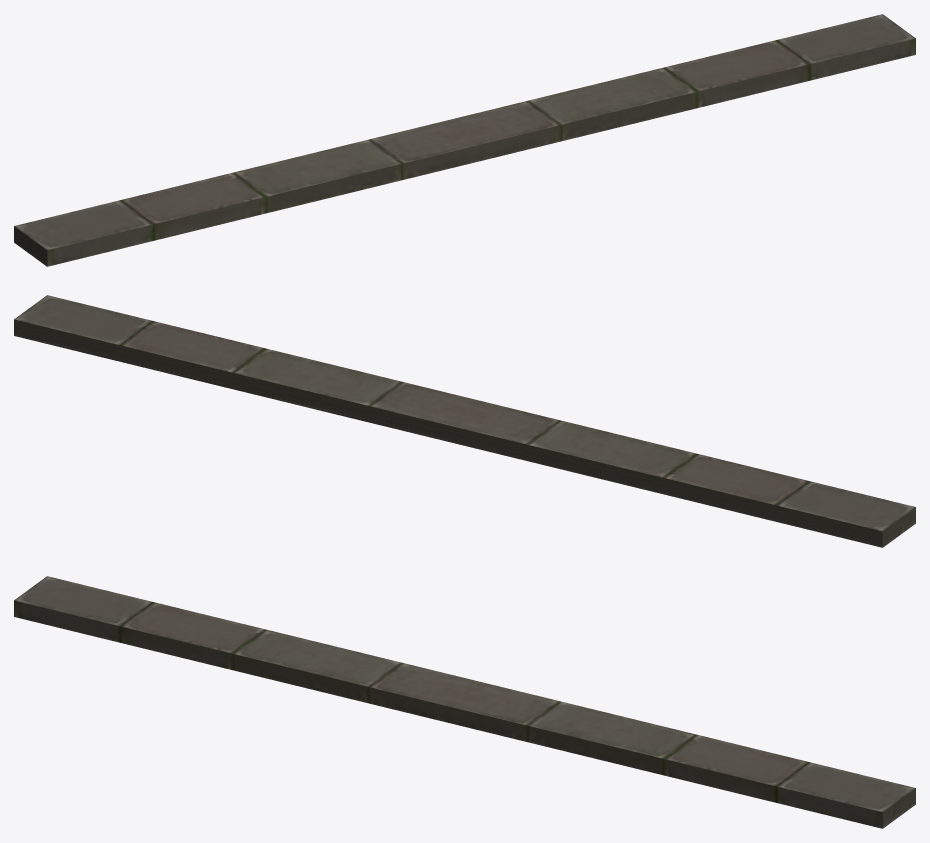
Rendered from qx_tiaoshi.FBX.
3 renders of one model, top to bottom at view 1: azimuth 30°, elevation 25°; view 2: azimuth 150°, elevation 25°; view 3: azimuth 330°, elevation 25°, orthographic.
Parts seen in each view (by area): view 1: Rectangle011; view 2: Rectangle011; view 3: Rectangle011.
Boxes of the visible parts, x1,y1,x2,y2 form: Rectangle011: [14, 14, 915, 266]; Rectangle011: [14, 295, 915, 547]; Rectangle011: [14, 576, 915, 828].
Size of the model in its own units: 1264 by 22.9 by 83.76.
